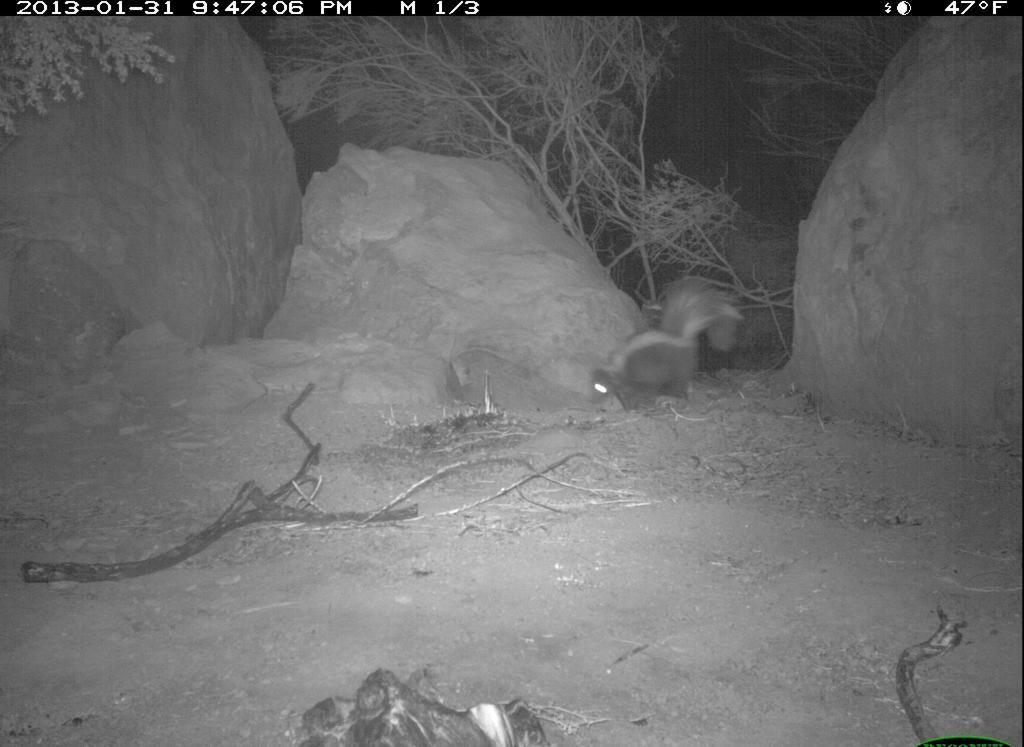skunk: (589, 269, 754, 423)
